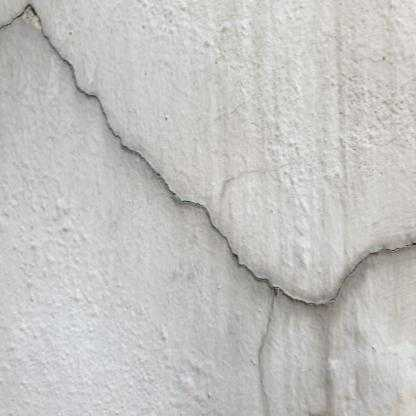crack: (0, 3, 416, 307)
